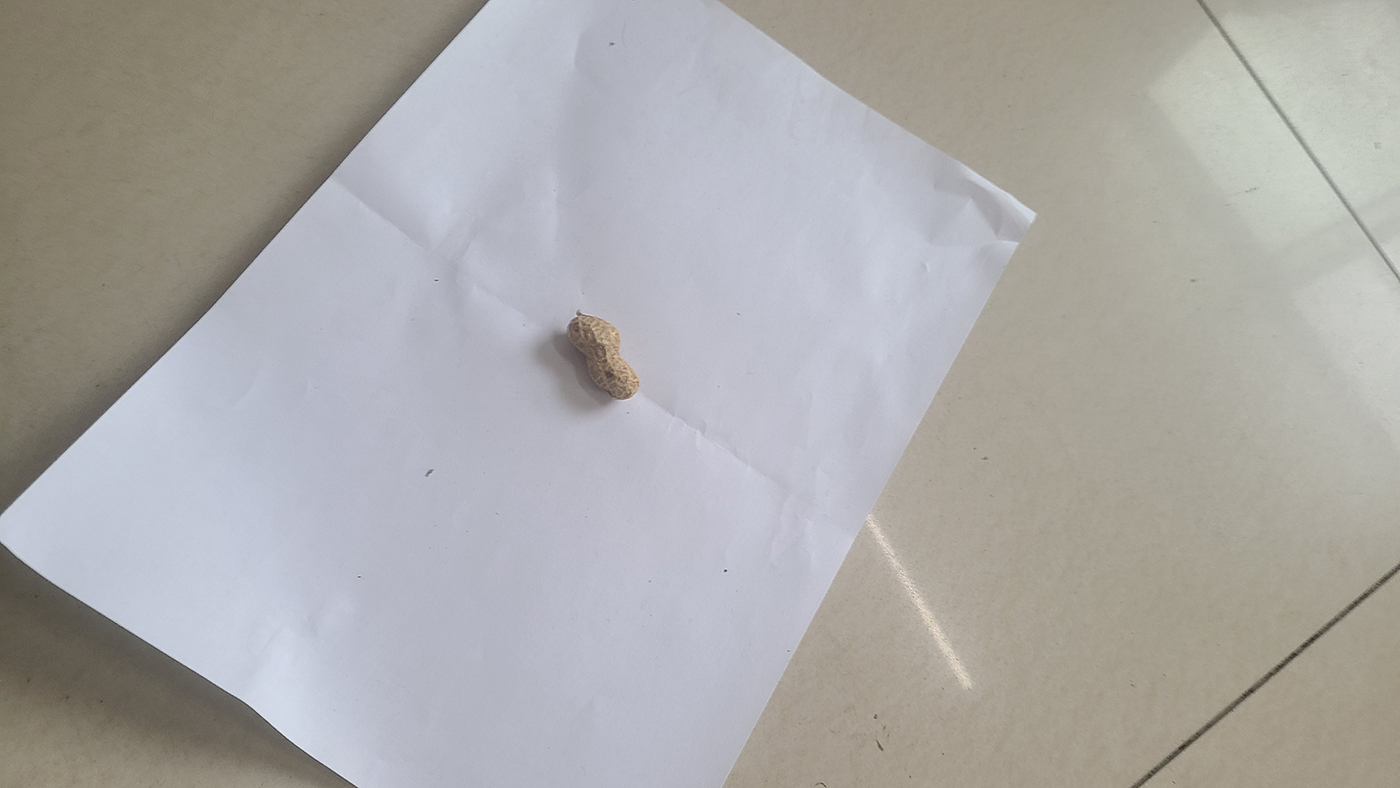h: (569, 314, 640, 400)
